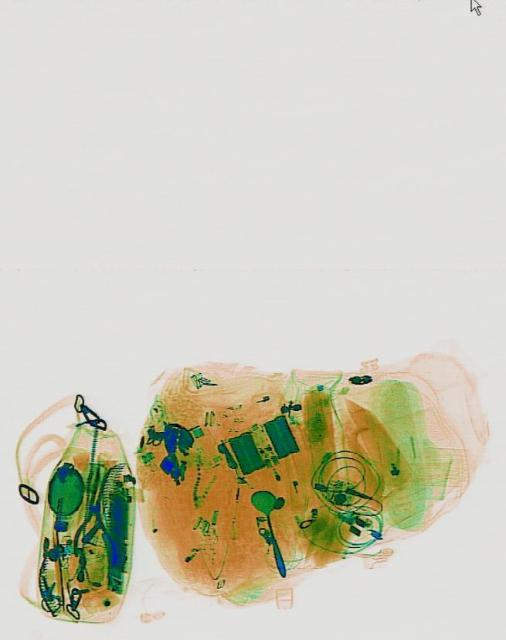Pliers: (70, 462, 123, 566)
